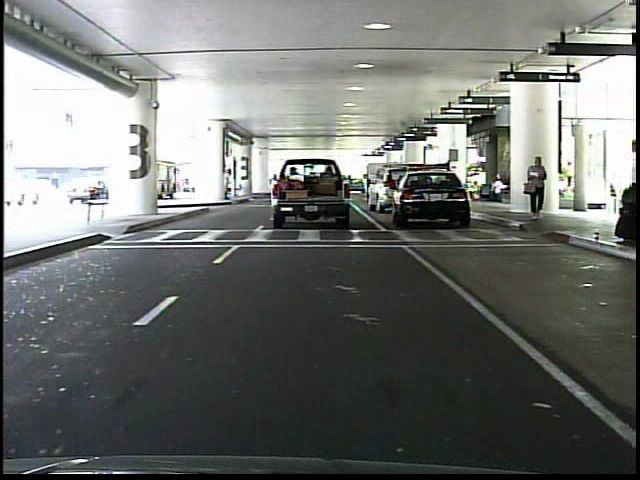person: (525, 149, 552, 227)
